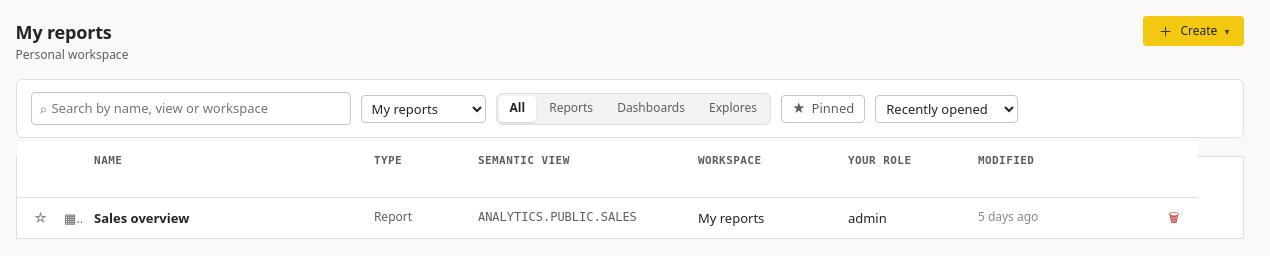
Scenario: WorkspacePage › offers every kind behind one Create button
Check: the link "Sales overview" is shown, box [94,209,189,227]
What coordinates should you click on to do the following:
click the button "Create ▾"
I would click on:
 (1194, 31)
Its box is [1144,16,1244,46].
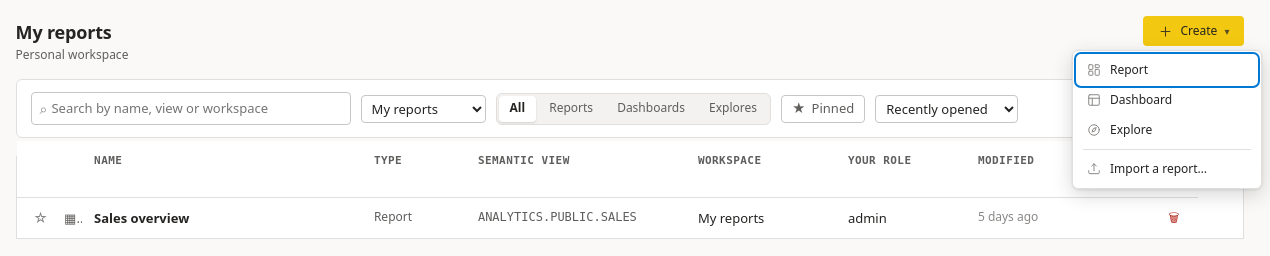
Check: the menu item "Report" is shown, box [1077,55,1257,85]
Check: the menu item "Dashboard" is shown, box [1077,85,1257,115]
Check: the menu item "Explore" is shown, box [1077,115,1257,145]
